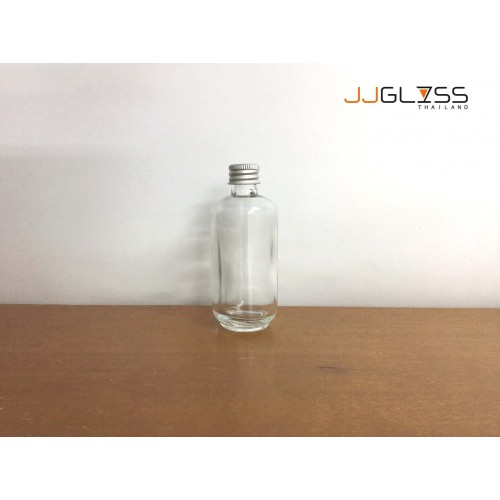glass_bottle: (210, 161, 282, 335)
